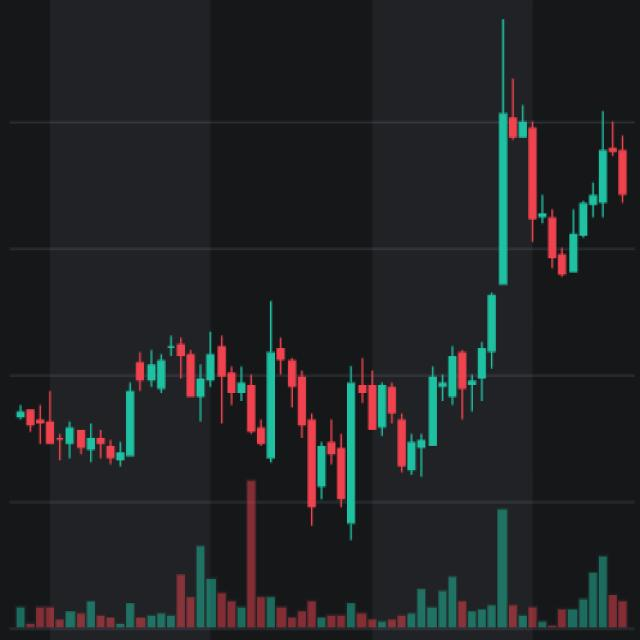Resistance-Emerging: (116, 303, 490, 549)
